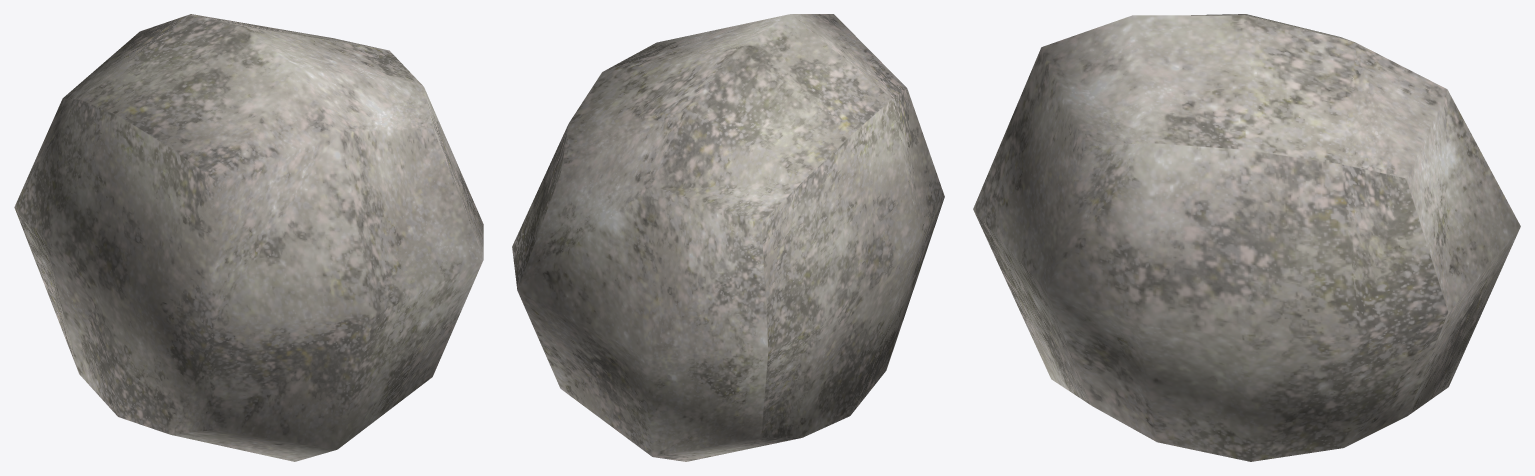
Rendered from inseki_4.fbx.
3 renders of one model, left to right at view 1: azimuth 30°, elevation 25°; view 2: azimuth 150°, elevation 25°; view 3: azimuth 270°, elevation 25°, orthographic. The views are drawn at different scales.
Parts seen in each view (by area): view 1: pCube1; view 2: pCube1; view 3: pCube1.
Boxes of the visible parts, x1=… form: pCube1: x1=14, y1=14, x2=483, y2=461; pCube1: x1=512, y1=14, x2=944, y2=461; pCube1: x1=973, y1=14, x2=1520, y2=461.
Size of the model in its own units: 1.65 by 1.87 by 2.18.
1 material, 1 textured.
